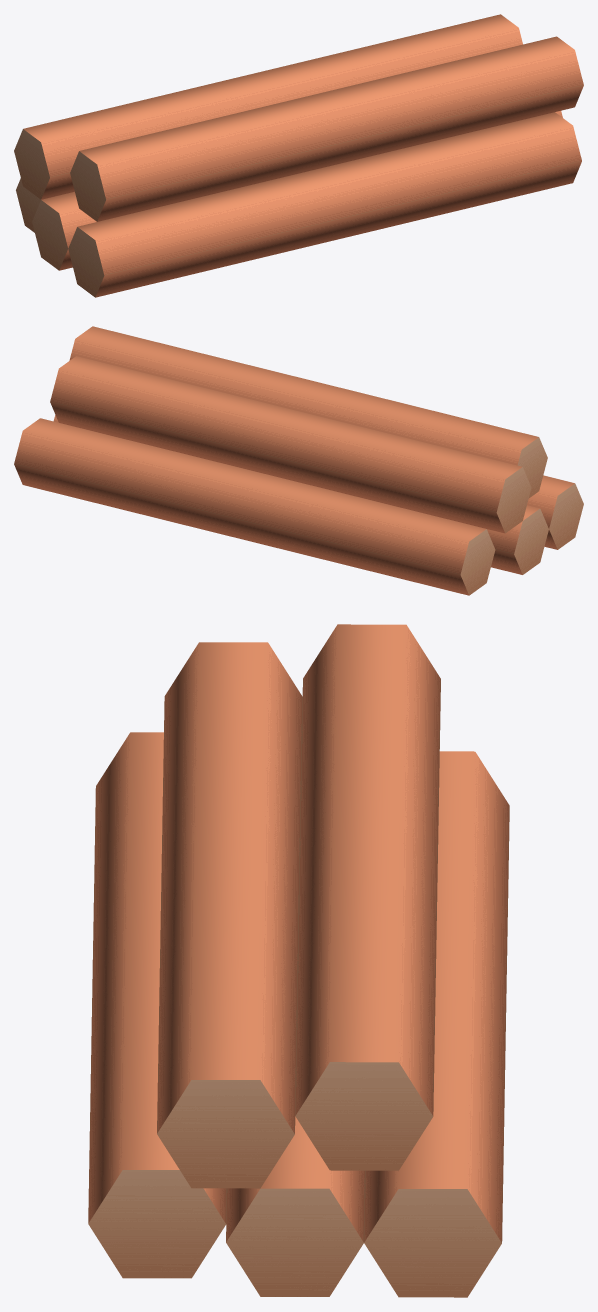
Rendered from cargo.003_lev2.glb.
3 views of the same model, one above another, from view 1: azimuth 30°, elevation 25°; view 2: azimuth 150°, elevation 25°; view 3: azimuth 270°, elevation 25° (orthographic). The views are drawn at different scales.
Visible parts, largest first — view 1: cargo.003_lev2; view 2: cargo.003_lev2; view 3: cargo.003_lev2.
Part boxes in pixels (<box>): cargo.003_lev2: <box>14,14,583,297</box>; cargo.003_lev2: <box>14,326,583,595</box>; cargo.003_lev2: <box>88,624,509,1297</box>.
Bounding box in the file's own units: 2.51 × 0.5543 × 0.977.
Materials: 1 (1 with a texture image).
